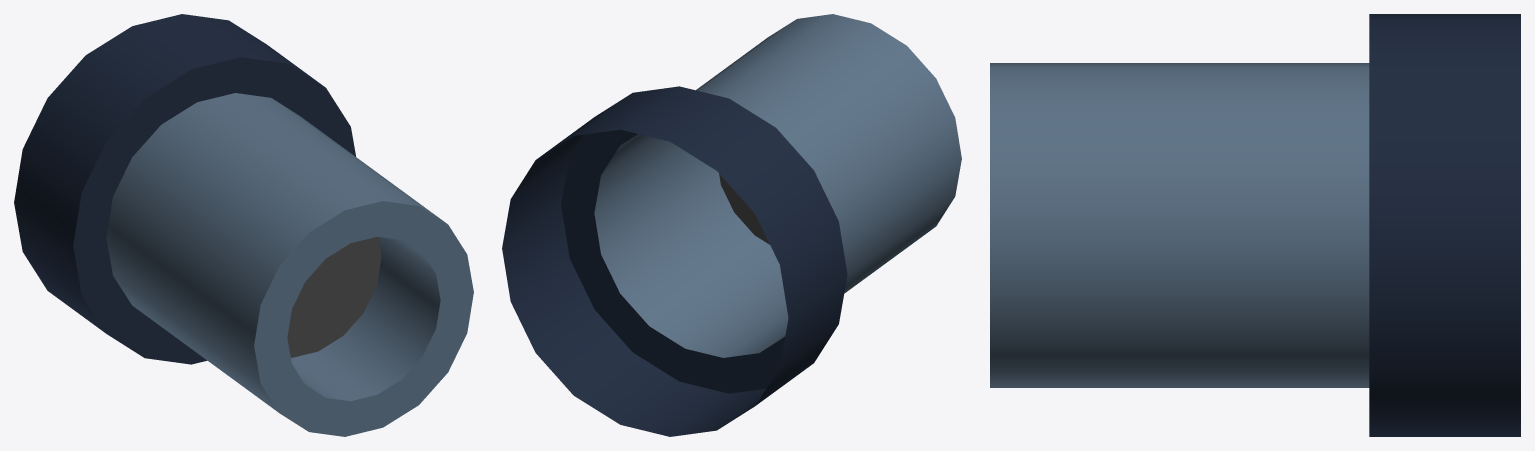
Rendered from Blockout_Prop_Pipe_01.FBX.
3 renders of one model, left to right at view 1: azimuth 30°, elevation 25°; view 2: azimuth 150°, elevation 25°; view 3: azimuth 270°, elevation 25°, orthographic. The views are drawn at different scales.
Parts seen in each view (by area): view 1: Blockout_Prop_Pipe_01; view 2: Blockout_Prop_Pipe_01; view 3: Blockout_Prop_Pipe_01.
Boxes of the visible parts, x1,y1,x2,y2 form: Blockout_Prop_Pipe_01: [14, 14, 473, 436]; Blockout_Prop_Pipe_01: [502, 14, 961, 436]; Blockout_Prop_Pipe_01: [990, 14, 1520, 436].
Size of the model in its own units: 71.12 by 70.04 by 88.9.
